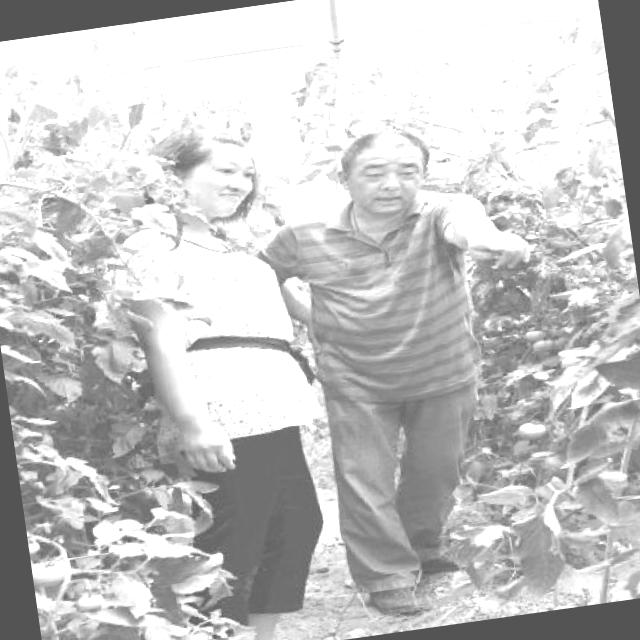Person: (254, 74, 593, 640), (68, 121, 363, 640)
